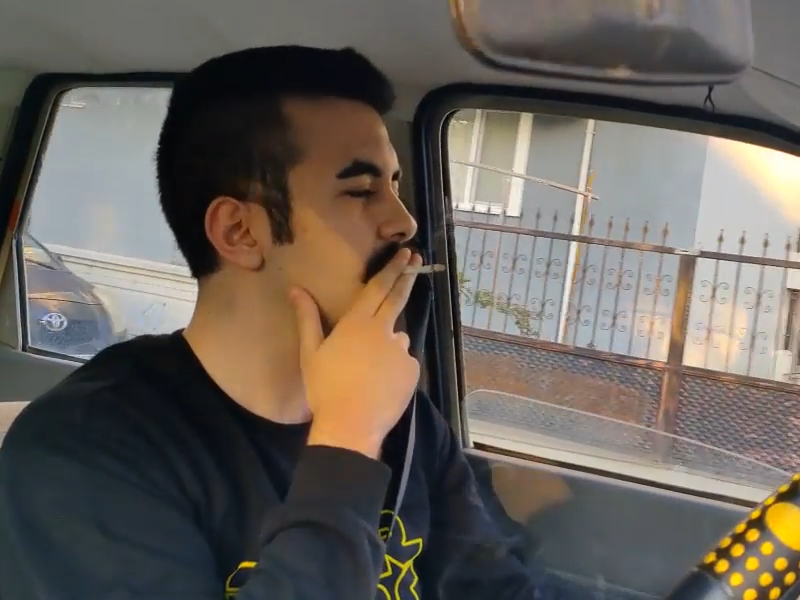sigara: (394, 259, 452, 281)
